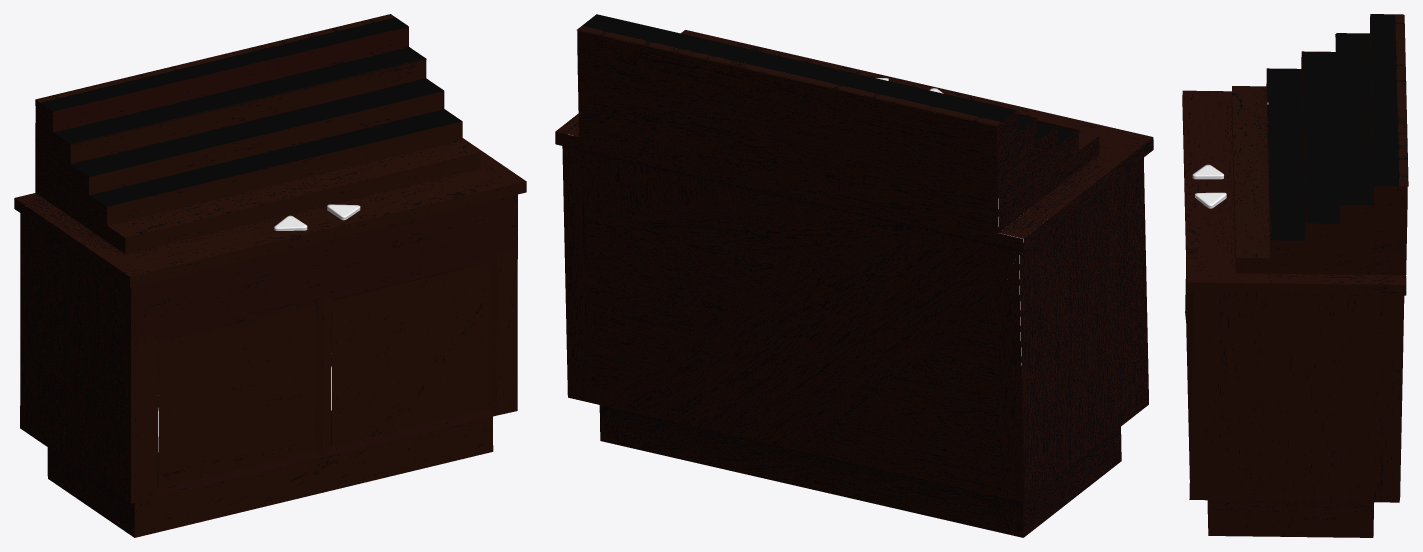
File: FiveTierStand.glb
The picture shows the model from 3 angles, left to right: view 1: azimuth 30°, elevation 25°; view 2: azimuth 150°, elevation 25°; view 3: azimuth 270°, elevation 25°; orthographic projection. The views are drawn at different scales.
Parts seen in each view (by area): view 1: CandleHolder.001, Shelf1, Shelf3, Shelf4, Shelf5, Shelf2; view 2: CandleHolder.001, Shelf5; view 3: CandleHolder.001, Shelf5, Shelf1, Shelf4, Shelf2, Shelf3, Button1, Button2.
Boxes of the visible parts, left/top/right/bottom form: CandleHolder.001: left=14, top=14, right=526, bottom=537; Shelf1: left=107, top=140, right=480, bottom=237; Shelf3: left=70, top=79, right=442, bottom=176; Shelf4: left=54, top=47, right=426, bottom=144; Shelf5: left=36, top=14, right=408, bottom=111; Shelf2: left=89, top=109, right=460, bottom=207; CandleHolder.001: left=555, top=14, right=1153, bottom=537; Shelf5: left=576, top=14, right=1015, bottom=126; CandleHolder.001: left=1182, top=14, right=1407, bottom=537; Shelf5: left=1370, top=14, right=1408, bottom=186; Shelf1: left=1232, top=86, right=1270, bottom=258; Shelf4: left=1335, top=34, right=1373, bottom=206; Shelf2: left=1267, top=69, right=1306, bottom=240; Shelf3: left=1302, top=52, right=1339, bottom=223; Button1: left=1195, top=192, right=1226, bottom=208; Button2: left=1192, top=164, right=1223, bottom=179.
Bounding box in the file's own units: 0.6574 × 0.5776 × 0.3322.
Materials: 8 (6 with a texture image).
